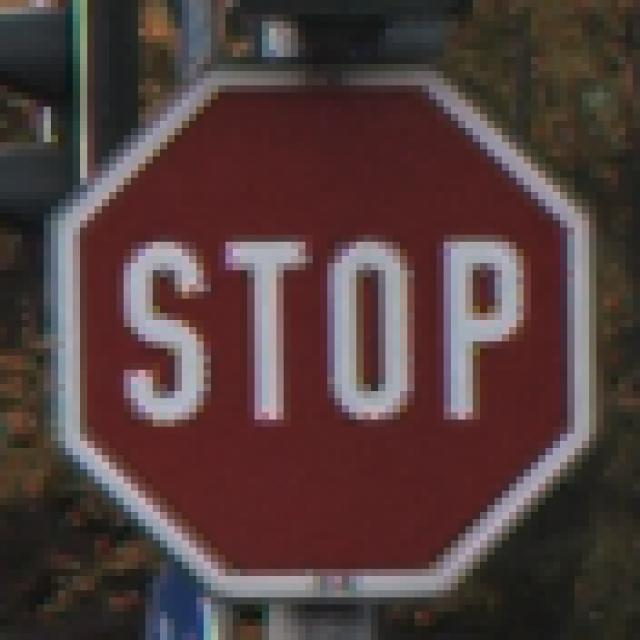STOP: (52, 58, 583, 584)
